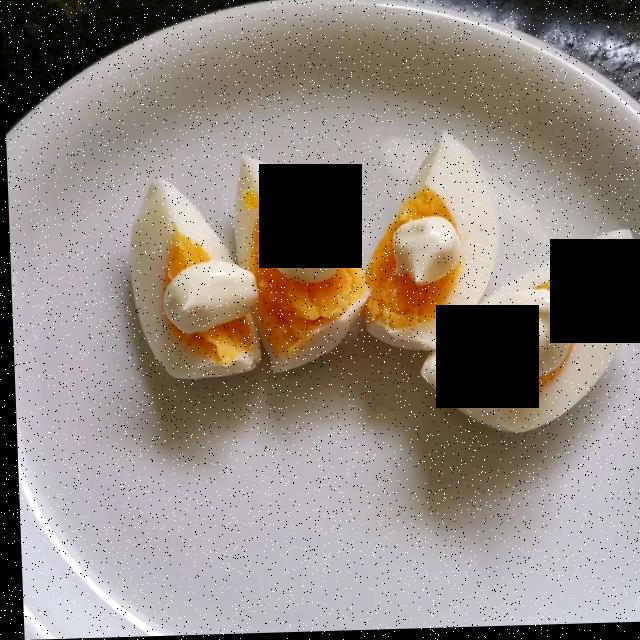egg: (132, 149, 623, 418)
mayonnaise: (155, 213, 575, 388)
